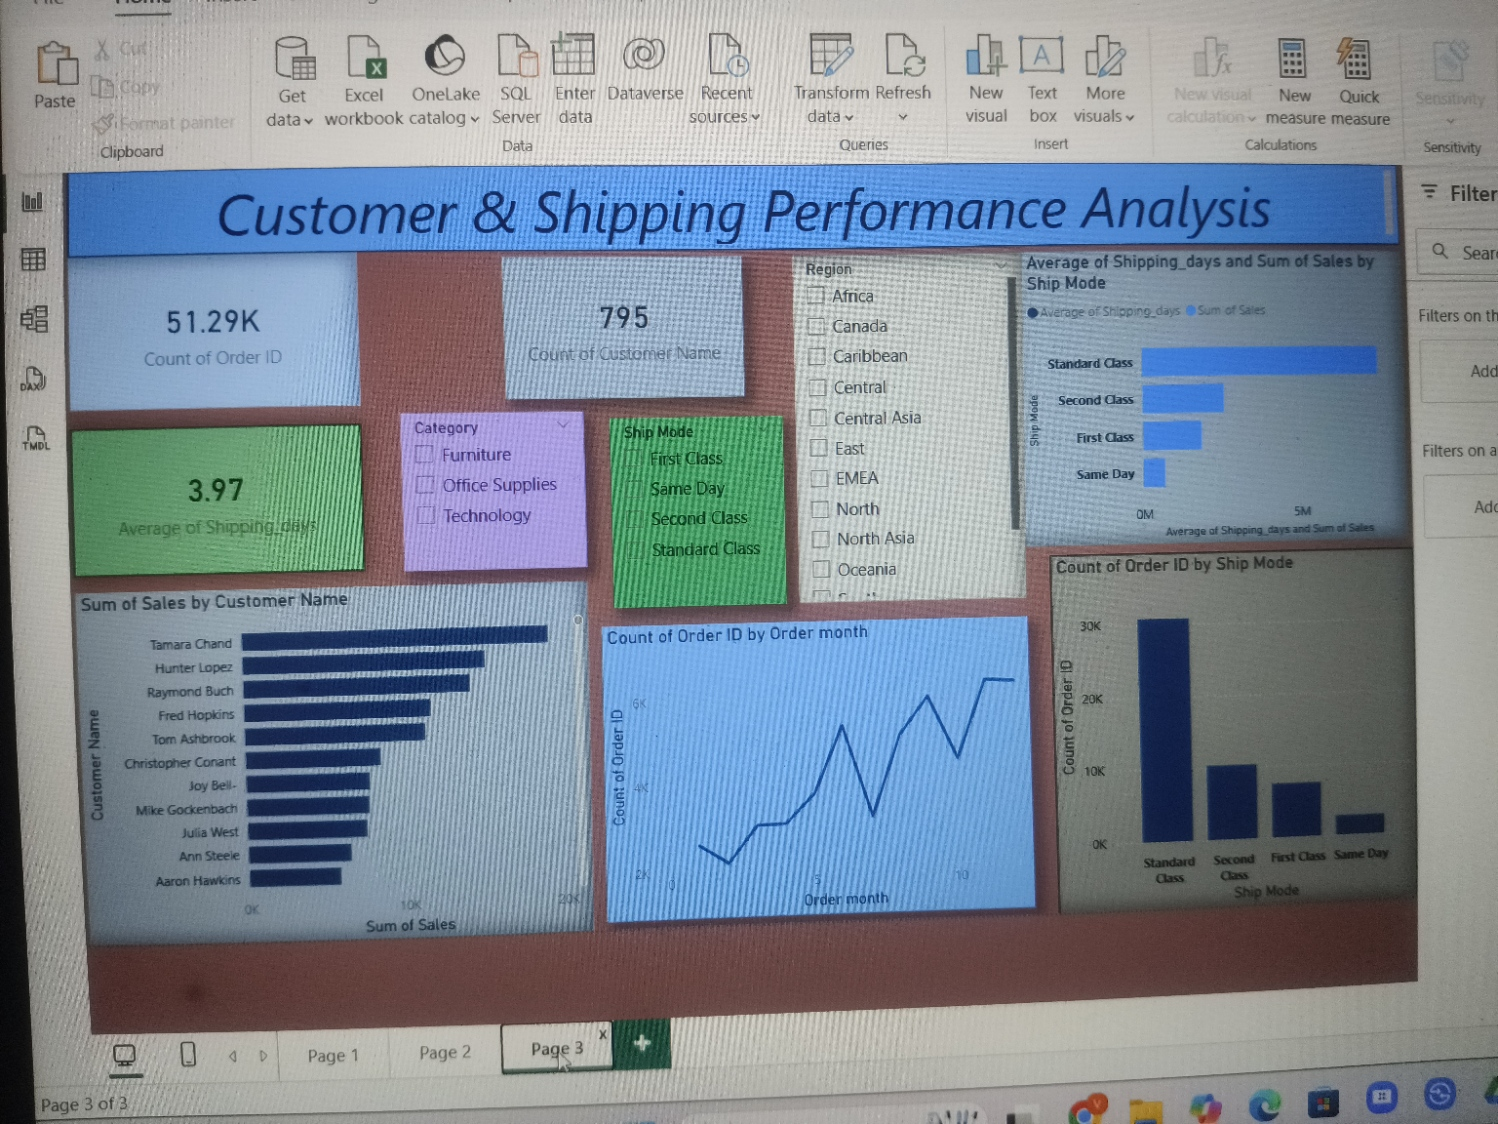

What the dashboard file says about the page in this screenshot:
{"tool":"powerbi","page":{"name":"Page 3","canvas":[1280,720],"ordinal":2},"visuals":[{"type":"textbox","box":[4.1,0,1270.7,79.6],"z":0},{"type":"card","fields":{"Values":["cleaned_superstore_data.Customer Name"]},"box":[403.4,85.1,225,131.7],"z":1},{"type":"card","fields":{"Values":["cleaned_superstore_data.Shipping_days"]},"box":[4.1,238.8,266.2,135.8],"z":2},{"type":"card","fields":{"Values":["cleaned_superstore_data.Order ID"]},"box":[4.1,79.6,266.2,141.3],"z":3},{"type":"barChart","fields":{"Category":["cleaned_superstore_data.Customer Name"],"Y":["cleaned_superstore_data.Sales"]},"box":[4.1,389.7,470.7,330.7],"z":4},{"type":"clusteredColumnChart","fields":{"Category":["cleaned_superstore_data.Ship Mode"],"Y":["cleaned_superstore_data.Order ID"]},"box":[919.4,376,360.9,344.4],"z":5},{"type":"slicer","fields":{"Values":["cleaned_superstore_data.Region"]},"box":[676.5,85.1,219.6,330.7],"z":6},{"type":"slicer","fields":{"Values":["cleaned_superstore_data.Ship Mode"]},"box":[499.5,236,164.7,179.8],"z":7},{"type":"slicer","fields":{"Values":["cleaned_superstore_data.Category"]},"box":[306,229.2,168.8,146.8],"z":9},{"type":"barChart","fields":{"Category":["cleaned_superstore_data.Ship Mode"],"Y":["cleaned_superstore_data.Shipping_days","cleaned_superstore_data.Sales"]},"box":[896.1,85.1,378.7,281.3],"z":10},{"type":"lineChart","fields":{"Y":["cleaned_superstore_data.Order ID"],"Category":["cleaned_superstore_data.Order month"]},"box":[487.1,433.6,408.9,278.6],"z":11}]}

Visuals, with their boxes on the page's 1280x720 design canvas (x1, y1, x2, y2). These are canvas units, not pixel positions in the 1498x1124 screenshot, which may show the page scaled, cropped or inside an application window:
textbox: <bbox>4, 0, 1275, 80</bbox>
card - cleaned_superstore_data.Customer Name: <bbox>403, 85, 628, 217</bbox>
card - cleaned_superstore_data.Shipping_days: <bbox>4, 239, 270, 375</bbox>
card - cleaned_superstore_data.Order ID: <bbox>4, 80, 270, 221</bbox>
barChart - cleaned_superstore_data.Customer Name x cleaned_superstore_data.Sales: <bbox>4, 390, 475, 720</bbox>
clusteredColumnChart - cleaned_superstore_data.Ship Mode x cleaned_superstore_data.Order ID: <bbox>919, 376, 1280, 720</bbox>
slicer - cleaned_superstore_data.Region: <bbox>676, 85, 896, 416</bbox>
slicer - cleaned_superstore_data.Ship Mode: <bbox>500, 236, 664, 416</bbox>
slicer - cleaned_superstore_data.Category: <bbox>306, 229, 475, 376</bbox>
barChart - cleaned_superstore_data.Ship Mode x cleaned_superstore_data.Shipping_days: <bbox>896, 85, 1275, 366</bbox>
lineChart - cleaned_superstore_data.Order ID x cleaned_superstore_data.Order month: <bbox>487, 434, 896, 712</bbox>
